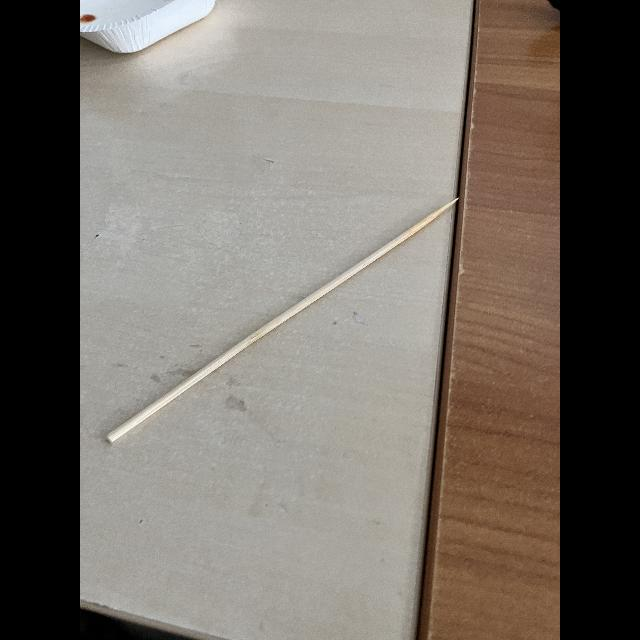stick: (93, 177, 469, 468)
